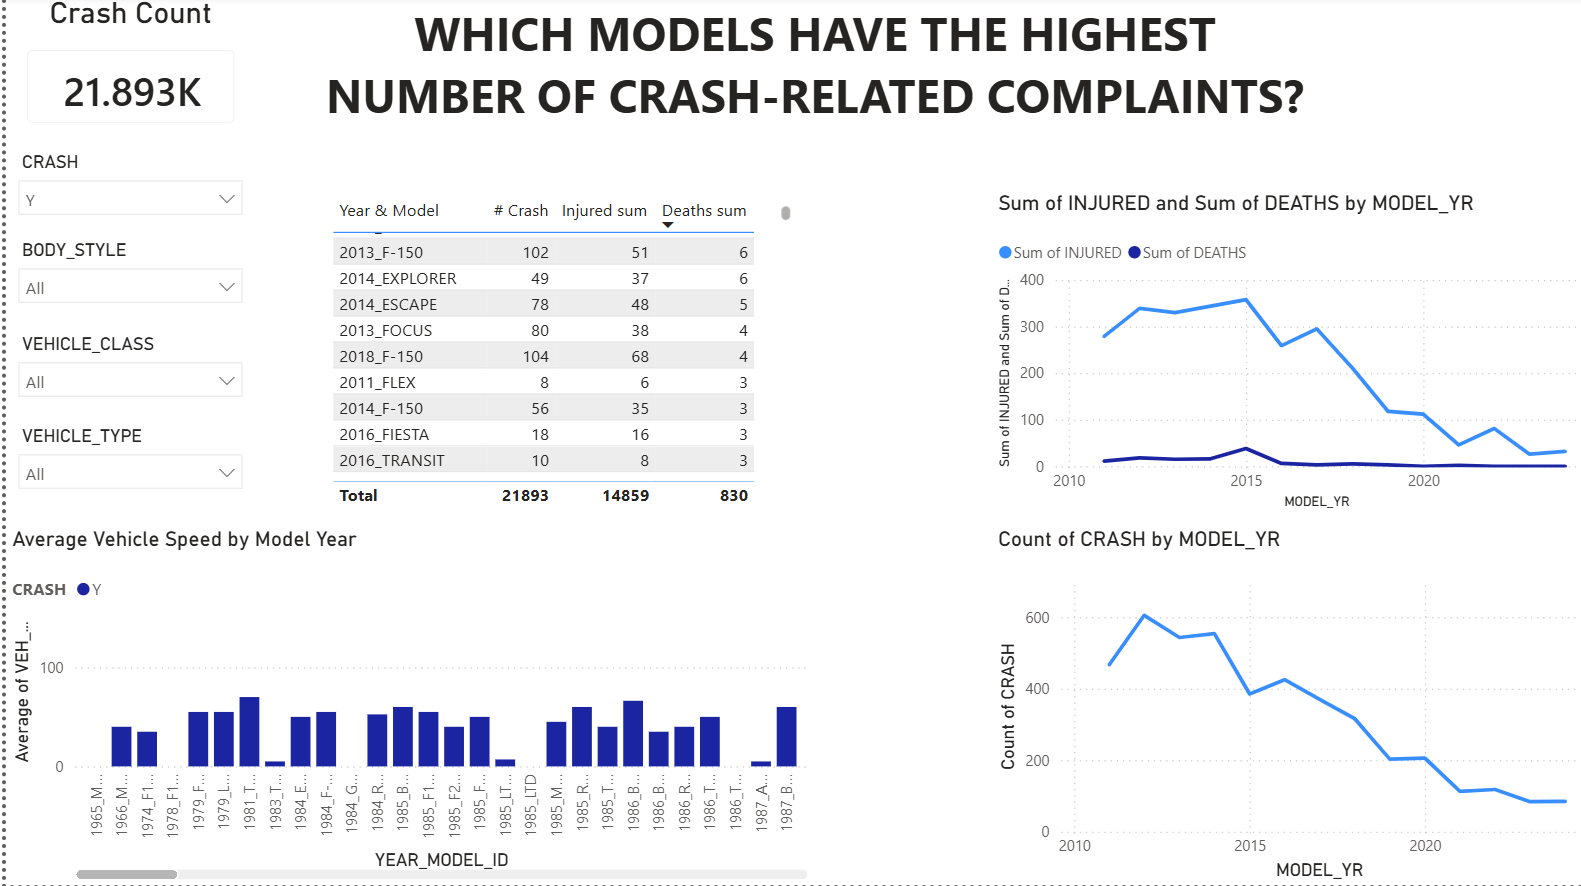

Layout of this report page (visuals, bound fields, positions):
{"tool":"powerbi","page":{"name":"Crash Details","canvas":[1280,720],"ordinal":1},"visuals":[{"type":"clusteredColumnChart","title":"Average Vehicle Speed by Model Year","fields":{"Category":["FordExternalTable.YEAR_MODEL_ID"],"Series":["FordExternalTable.CRASH"],"Y":["Avg(FordExternalTable.VEH_SPEED)"]},"box":[0,430,653.3,290],"z":0},{"type":"lineChart","fields":{"Category":["Safercar_data_FORD.MODEL_YR"],"Y":["CountNonNull(FordExternalTable.CRASH)"]},"box":[798.3,430,481.7,290],"z":1000},{"type":"lineChart","fields":{"Category":["Safercar_data_FORD.MODEL_YR"],"Y":["Sum(FordExternalTable.INJURED)","Sum(FordExternalTable.DEATHS)"]},"box":[798.3,158.3,481.7,261.7],"z":2000},{"type":"slicer","fields":{"Values":["FordExternalTable.CRASH"]},"box":[0,121.7,201.7,71.7],"z":3000},{"type":"slicer","fields":{"Values":["Safercar_data_FORD.BODY_STYLE"]},"box":[0,193.3,201.7,75],"z":4000},{"type":"tableEx","fields":{"Values":["Safercar_data_FORD.YEAR_MODEL_ID","FordExternalTable.CRASH","Sum(FordExternalTable.INJURED)","Sum(FordExternalTable.DEATHS)"]},"box":[258.3,158.3,381.7,260],"z":5000},{"type":"slicer","fields":{"Values":["Safercar_data_FORD.VEHICLE_CLASS"]},"box":[0,268.3,201.7,75],"z":6000},{"type":"slicer","fields":{"Values":["Safercar_data_FORD.VEHICLE_TYPE"]},"box":[0,343.3,201.7,75],"z":7000},{"type":"cardVisual","title":"Crash Count","fields":{"Data":["CountNonNull(FordExternalTable.CRASH)"]},"box":[0,0,202.2,121.3],"z":8000},{"type":"textbox","box":[245.9,0,817.1,121.3],"z":9000}]}

Visuals, with their boxes in screenshot pixels (x1, y1, x2, y2), scaled from the page's 1280x720 canvas onto the 1581x886 screenshot:
"Average Vehicle Speed by Model Year" clusteredColumnChart: (x1=0, y1=529, x2=807, y2=885)
lineChart - Safercar_data_FORD.MODEL_YR x CountNonNull(FordExternalTable.CRASH): (x1=986, y1=529, x2=1580, y2=885)
lineChart - Safercar_data_FORD.MODEL_YR x Sum(FordExternalTable.INJURED): (x1=986, y1=195, x2=1580, y2=517)
slicer - FordExternalTable.CRASH: (x1=0, y1=150, x2=249, y2=238)
slicer - Safercar_data_FORD.BODY_STYLE: (x1=0, y1=238, x2=249, y2=330)
tableEx - Safercar_data_FORD.YEAR_MODEL_ID x FordExternalTable.CRASH: (x1=319, y1=195, x2=790, y2=515)
slicer - Safercar_data_FORD.VEHICLE_CLASS: (x1=0, y1=330, x2=249, y2=422)
slicer - Safercar_data_FORD.VEHICLE_TYPE: (x1=0, y1=422, x2=249, y2=515)
"Crash Count" cardVisual: (x1=0, y1=0, x2=250, y2=149)
textbox: (x1=304, y1=0, x2=1313, y2=149)
